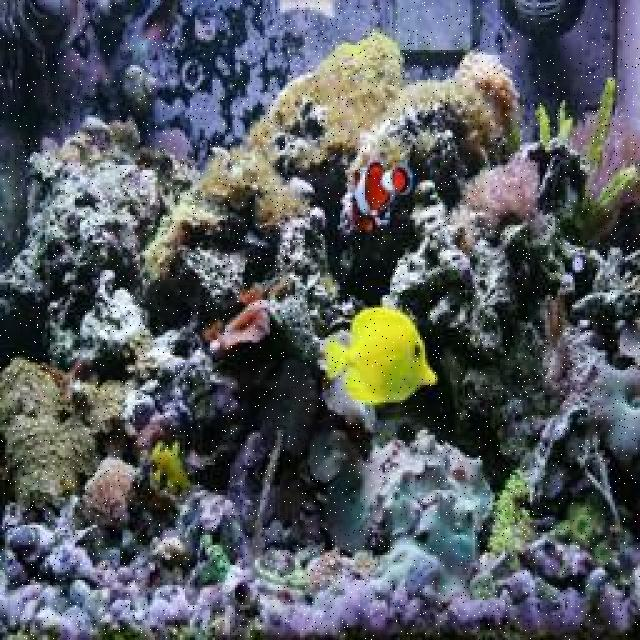fish: (326, 306, 438, 403), (351, 164, 411, 232), (214, 301, 270, 351)
reefs: (0, 427, 633, 638), (316, 329, 495, 604), (592, 321, 638, 460)
